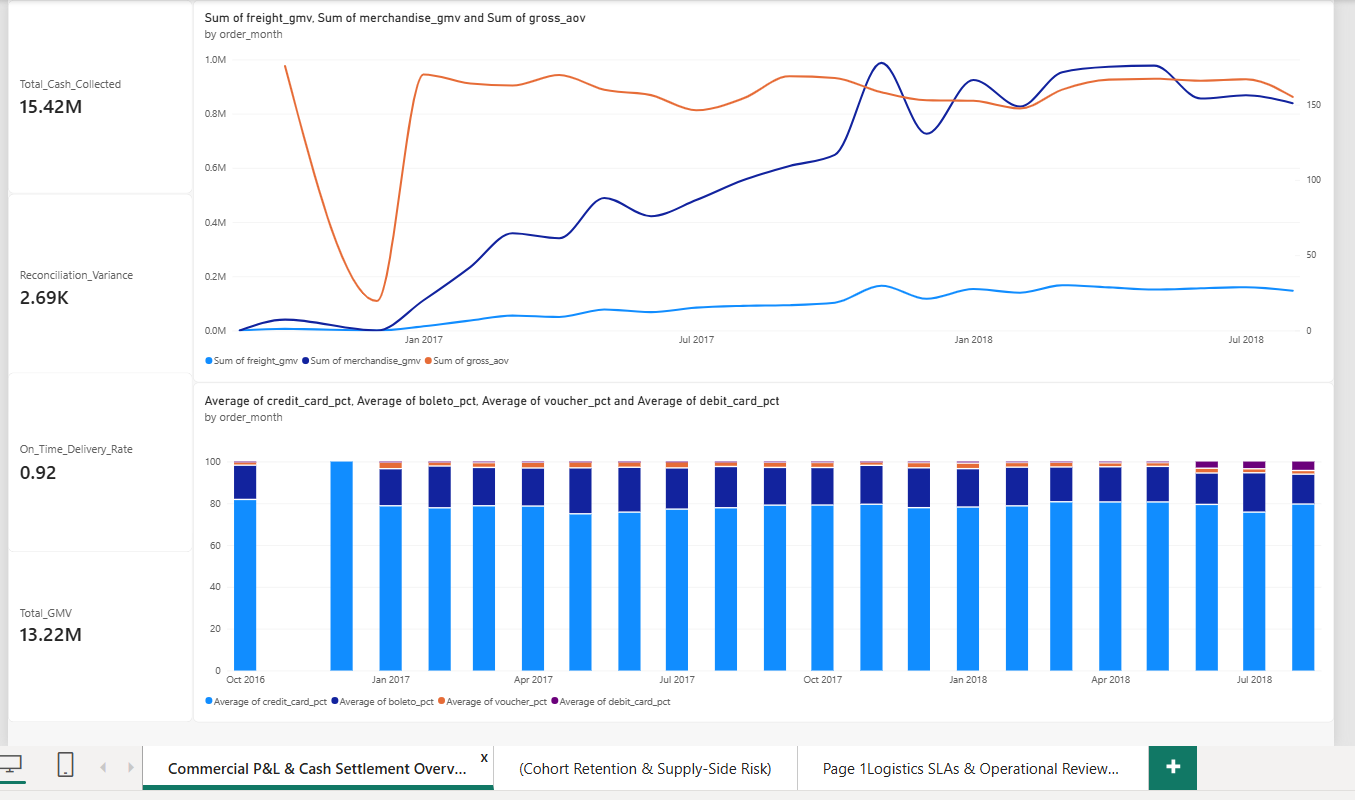

The dashboard page shown, as its layout file describes it:
{"tool":"powerbi","page":{"name":"Commercial P&L & Cash Settlement Overview","canvas":[1920,1080],"ordinal":0},"visuals":[{"type":"cardVisual","fields":{"Data":["_Measures.Total_GMV"]},"box":[0,765.5,267.8,280.5],"z":0},{"type":"cardVisual","fields":{"Data":["_Measures.Total_Cash_Collected"]},"box":[0,0,267.8,280.5],"z":1000},{"type":"cardVisual","fields":{"Data":["_Measures.Reconciliation_Variance"]},"box":[0,280.5,267.8,273.3],"z":2000},{"type":"cardVisual","fields":{"Data":["_Measures.On_Time_Delivery_Rate"]},"box":[0,539.3,267.8,260.6],"z":3000},{"type":"lineChart","fields":{"Category":["fct_monthly_actual_financials.order_month"],"Y":["Sum(fct_monthly_actual_financials.freight_gmv)","Sum(fct_monthly_actual_financials.merchandise_gmv)"],"Y2":["Sum(fct_monthly_actual_financials.gross_aov)"]},"box":[268.3,0,1652.2,553.8],"z":4000},{"type":"columnChart","fields":{"Category":["fct_monthly_actual_financials.order_month"],"Y":["Avg(fct_monthly_actual_financials.credit_card_pct)","Avg(fct_monthly_actual_financials.boleto_pct)","Avg(fct_monthly_actual_financials.voucher_pct)","Avg(fct_monthly_actual_financials.debit_card_pct)"]},"box":[267.8,553.8,1652.2,492.2],"z":5000}]}

Visuals, with their boxes on the page's 1920x1080 design canvas (x1, y1, x2, y2). These are canvas units, not pixel positions in the 1355x800 screenshot, which may show the page scaled, cropped or inside an application window:
cardVisual - _Measures.Total_GMV: [0, 766, 268, 1046]
cardVisual - _Measures.Total_Cash_Collected: [0, 0, 268, 280]
cardVisual - _Measures.Reconciliation_Variance: [0, 280, 268, 554]
cardVisual - _Measures.On_Time_Delivery_Rate: [0, 539, 268, 800]
lineChart - fct_monthly_actual_financials.order_month x Sum(fct_monthly_actual_financials.freight_gmv): [268, 0, 1920, 554]
columnChart - fct_monthly_actual_financials.order_month x Avg(fct_monthly_actual_financials.credit_card_pct): [268, 554, 1920, 1046]
